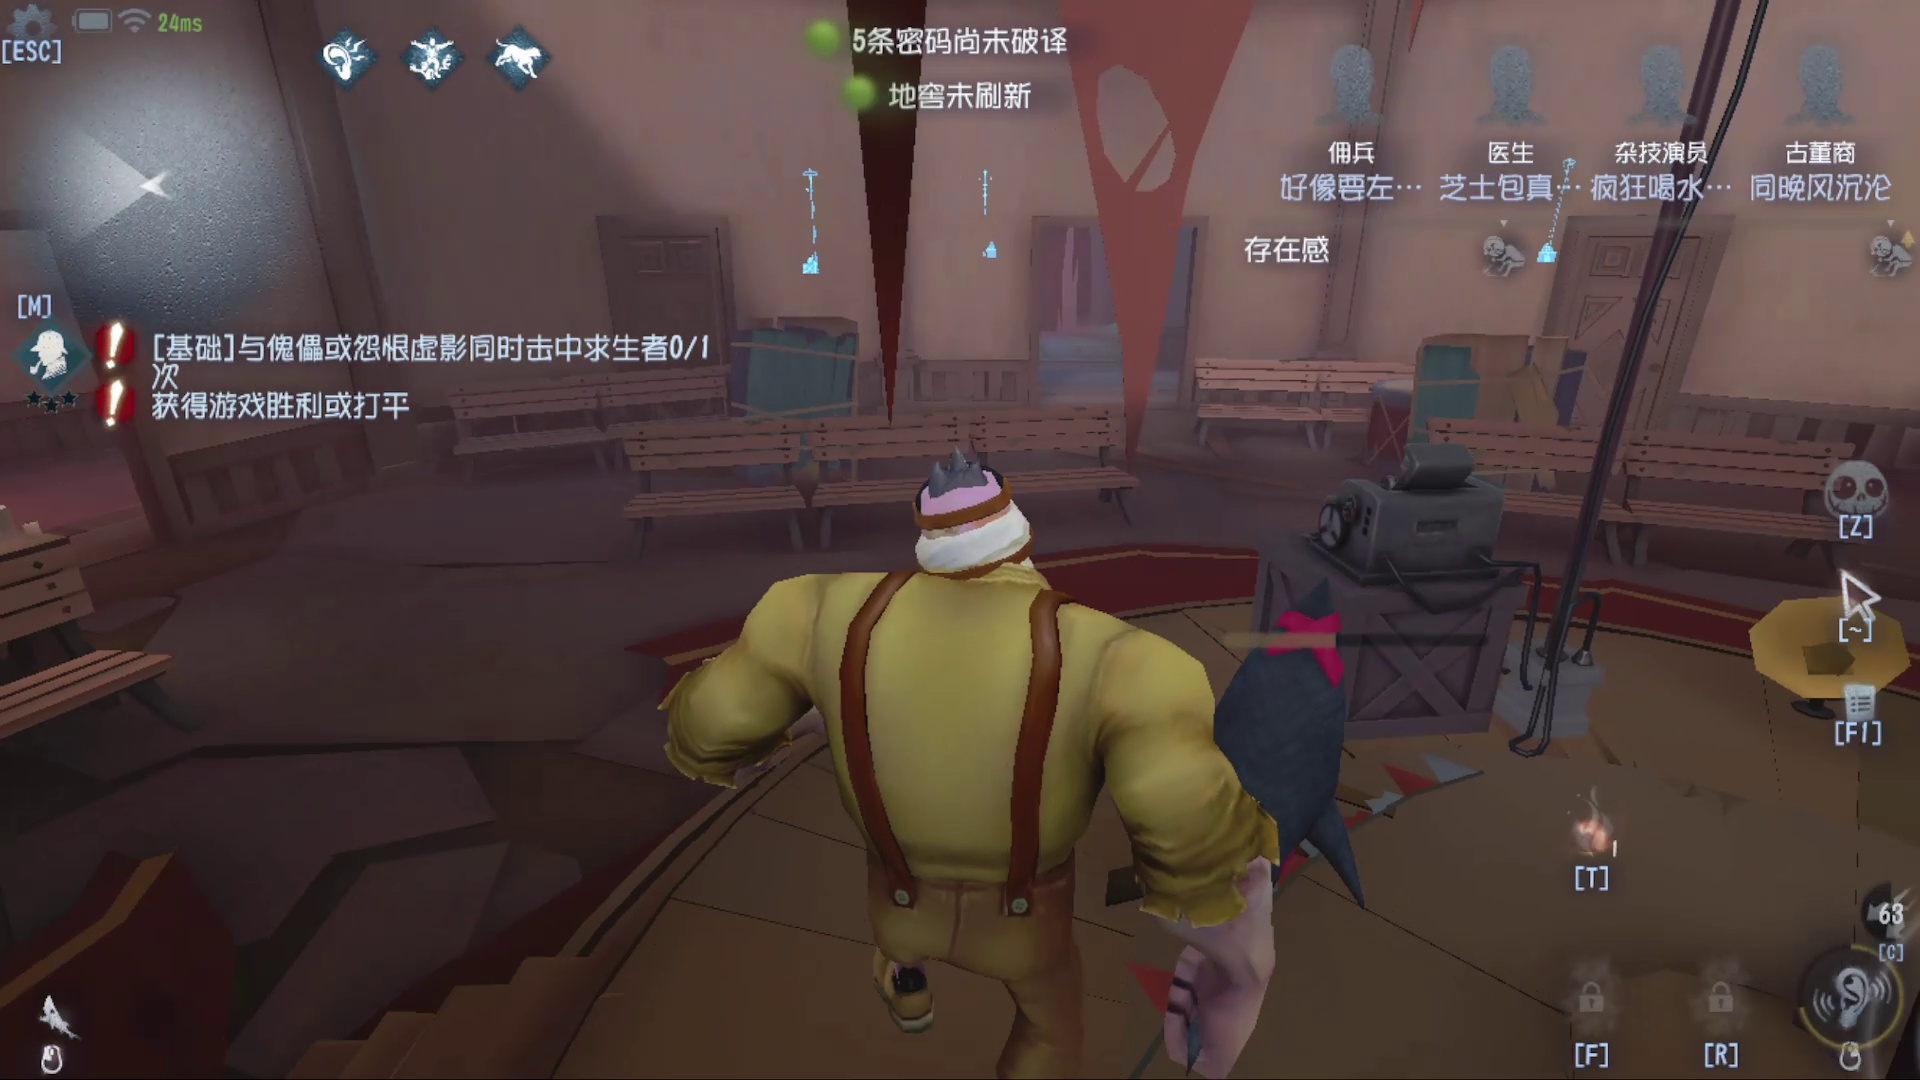密码机: (1249, 459, 1600, 764), (785, 170, 835, 291), (1530, 146, 1576, 272), (965, 157, 1006, 277)
木板: (1389, 310, 1622, 476), (716, 313, 872, 506)
